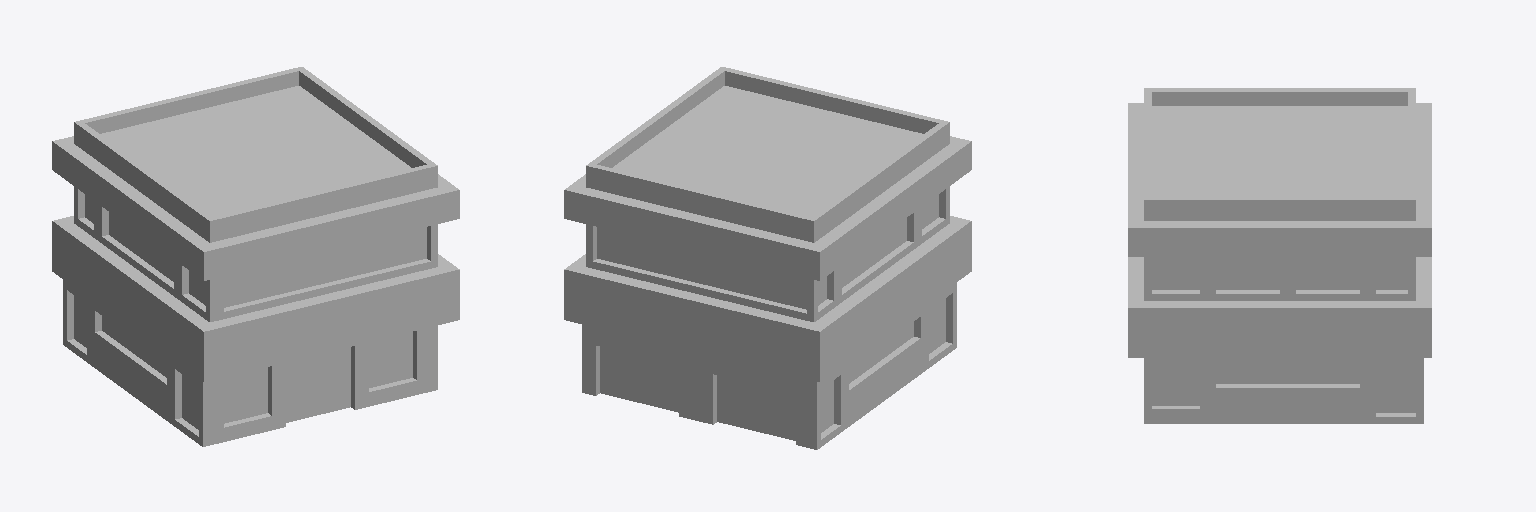
File: Police.obj
The picture shows the model from 3 angles: view 1: azimuth 30°, elevation 25°; view 2: azimuth 150°, elevation 25°; view 3: azimuth 270°, elevation 25°; orthographic projection.
Parts seen in each view (by area): view 1: object 1; view 2: object 1; view 3: object 1.
Boxes of the visible parts, <box> form: object 1: <box>52,67,459,446</box>; object 1: <box>564,67,971,449</box>; object 1: <box>1128,88,1431,423</box>.
Size of the model in its own units: 3.7 by 3.1 by 3.8.